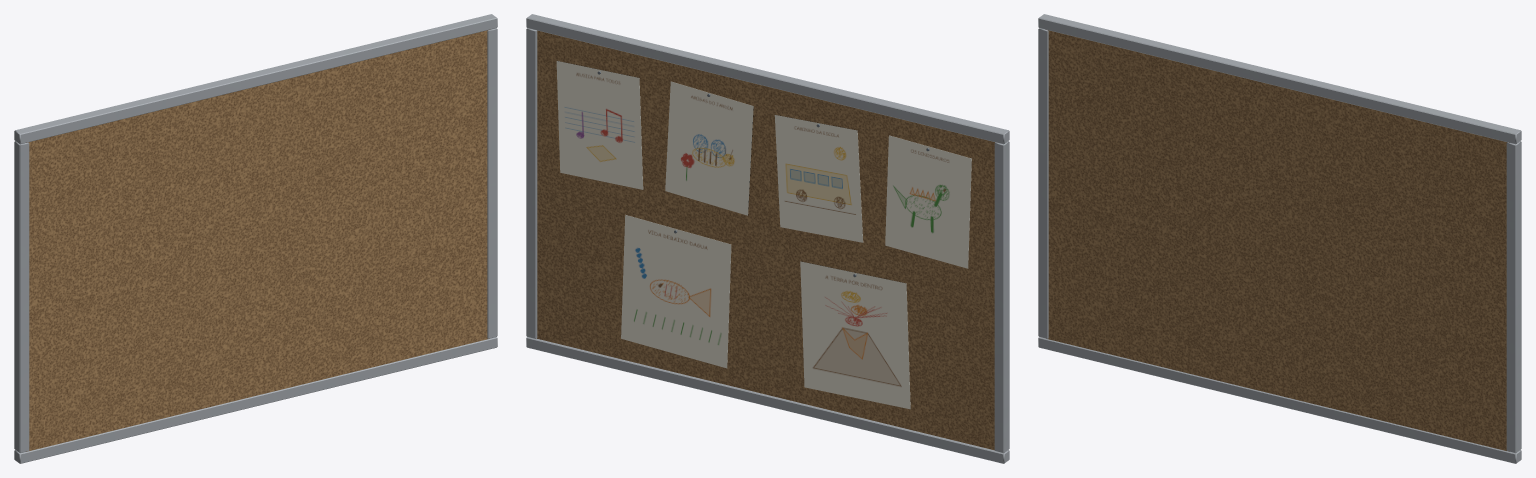
Rendered from mural_corredor_variacao_2_realista.glb.
3 renders of one model, left to right at view 1: azimuth 30°, elevation 25°; view 2: azimuth 150°, elevation 25°; view 3: azimuth 330°, elevation 25°, orthographic.
Visible parts, largest first — view 1: Mural_Corredor_Variacao_2; view 2: Mural_Corredor_Variacao_2; view 3: Mural_Corredor_Variacao_2.
Part boxes in pixels (x1,y1,x2,y2): Mural_Corredor_Variacao_2: (14, 14, 497, 463); Mural_Corredor_Variacao_2: (526, 14, 1009, 463); Mural_Corredor_Variacao_2: (1038, 14, 1521, 463).
Size of the model in its own units: 1.44 by 0.95 by 0.0313.
Materials: 1 (1 with a texture image).
